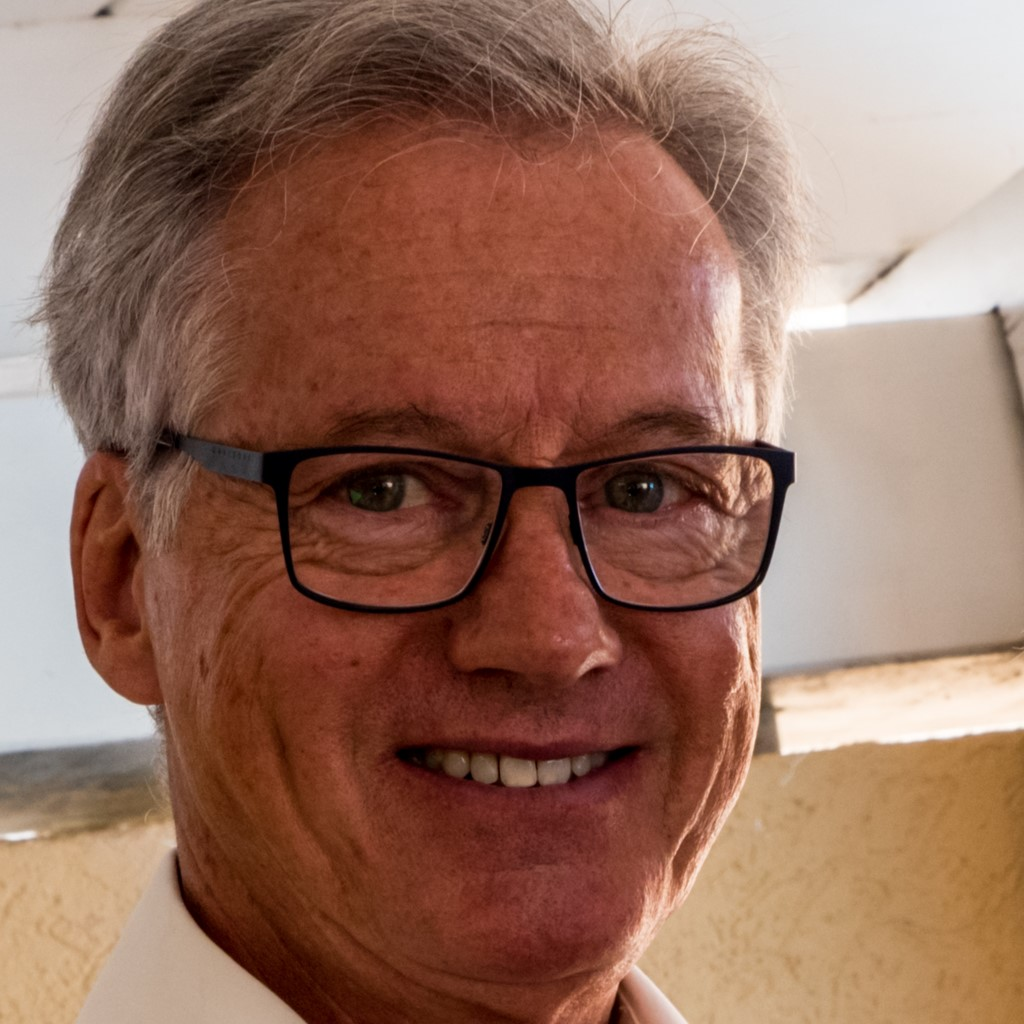sin_mascara: (84, 70, 776, 997)
